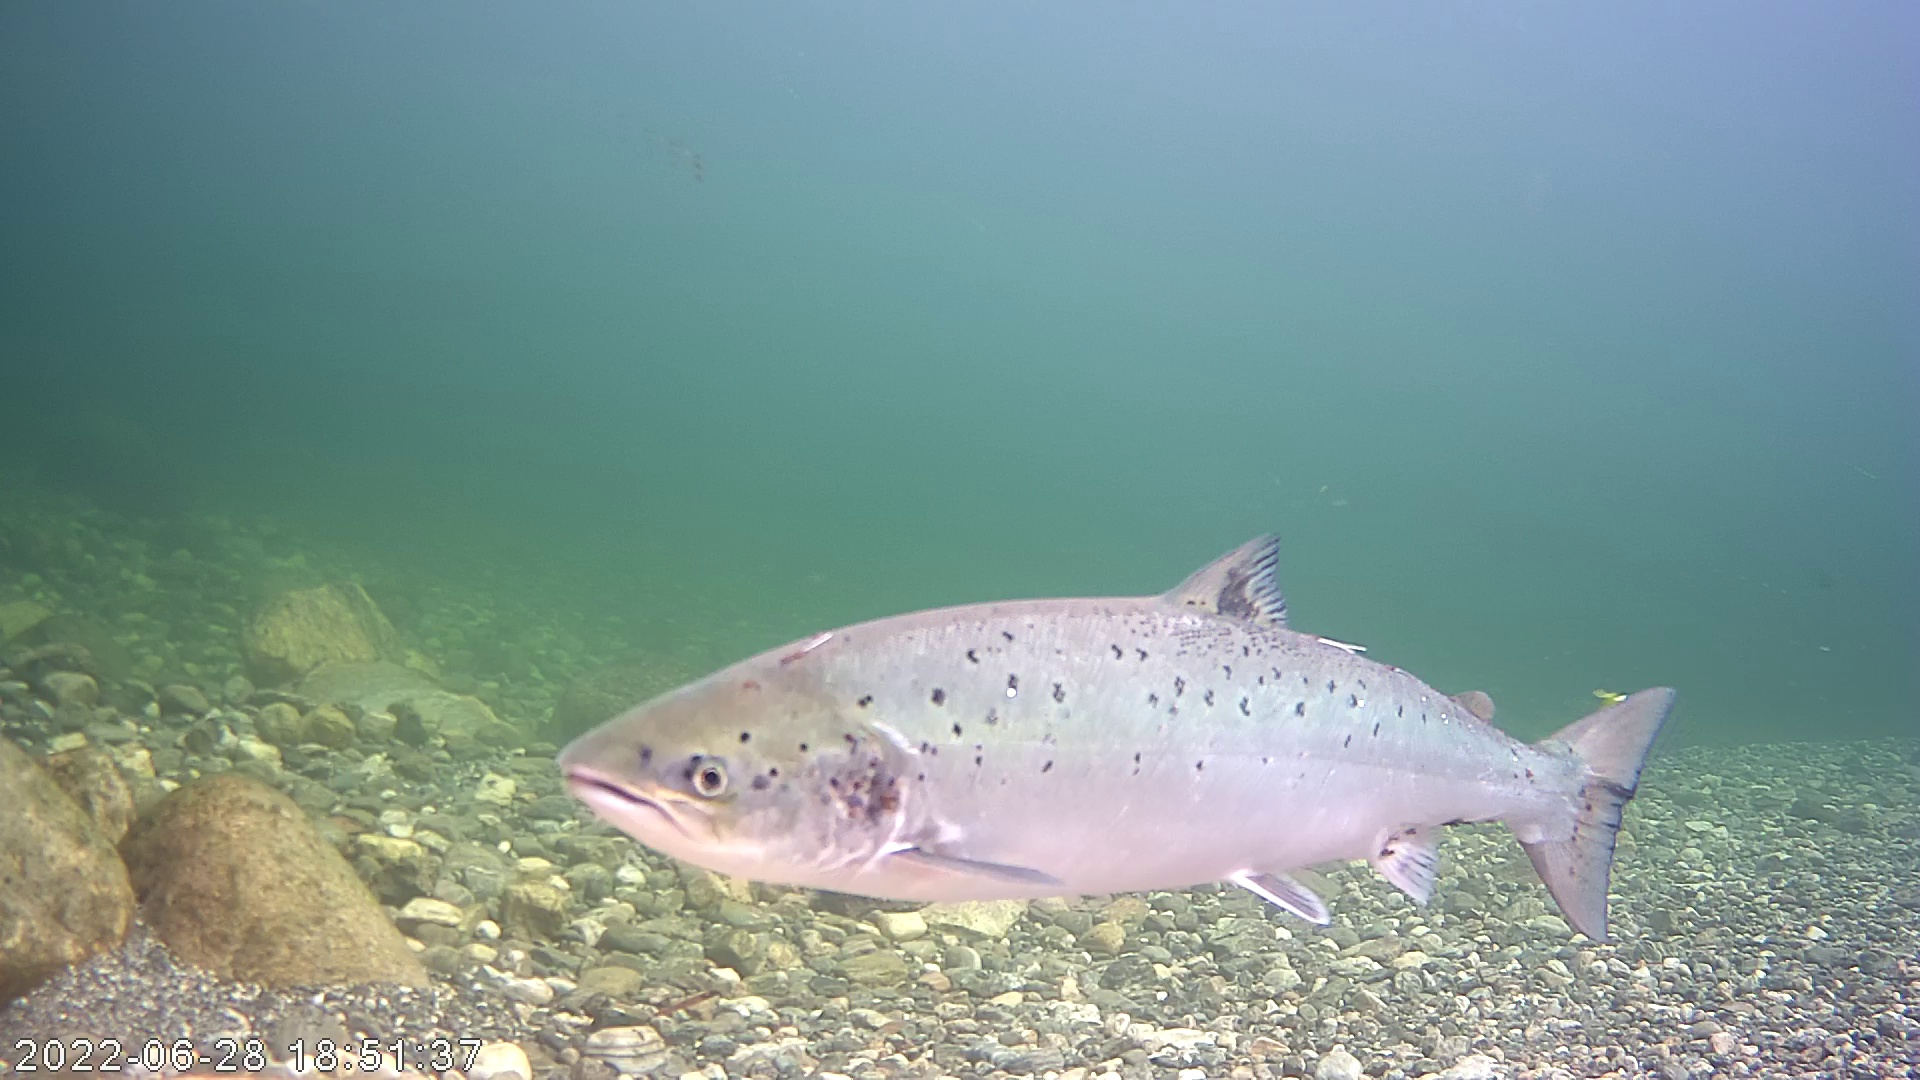salmon: (545, 436, 1664, 915)
